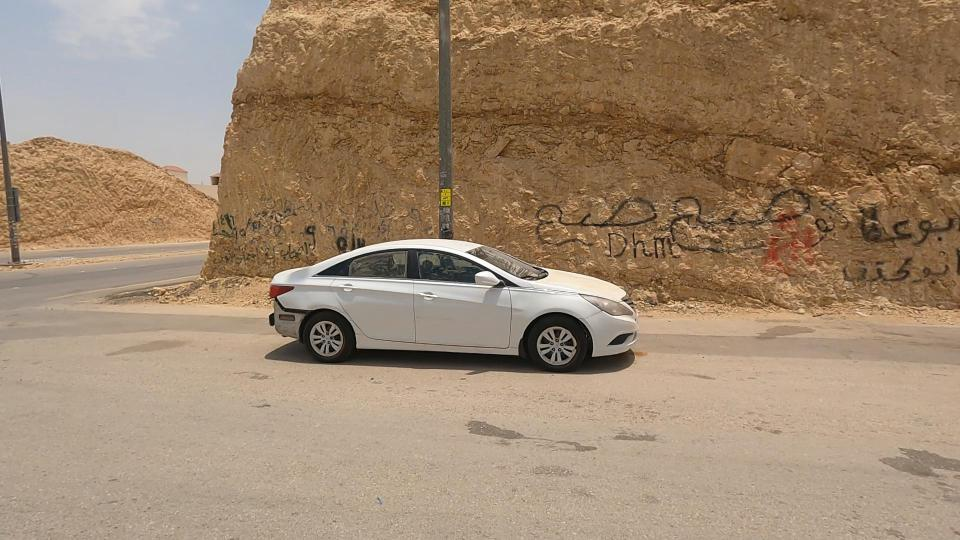GRAFFITI: (392, 115, 940, 342), (108, 160, 462, 296), (774, 147, 960, 365)
